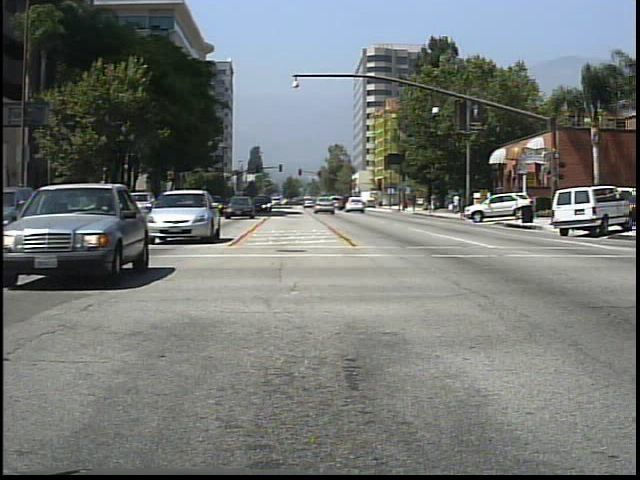person: (452, 191, 464, 219), (429, 192, 441, 215)
